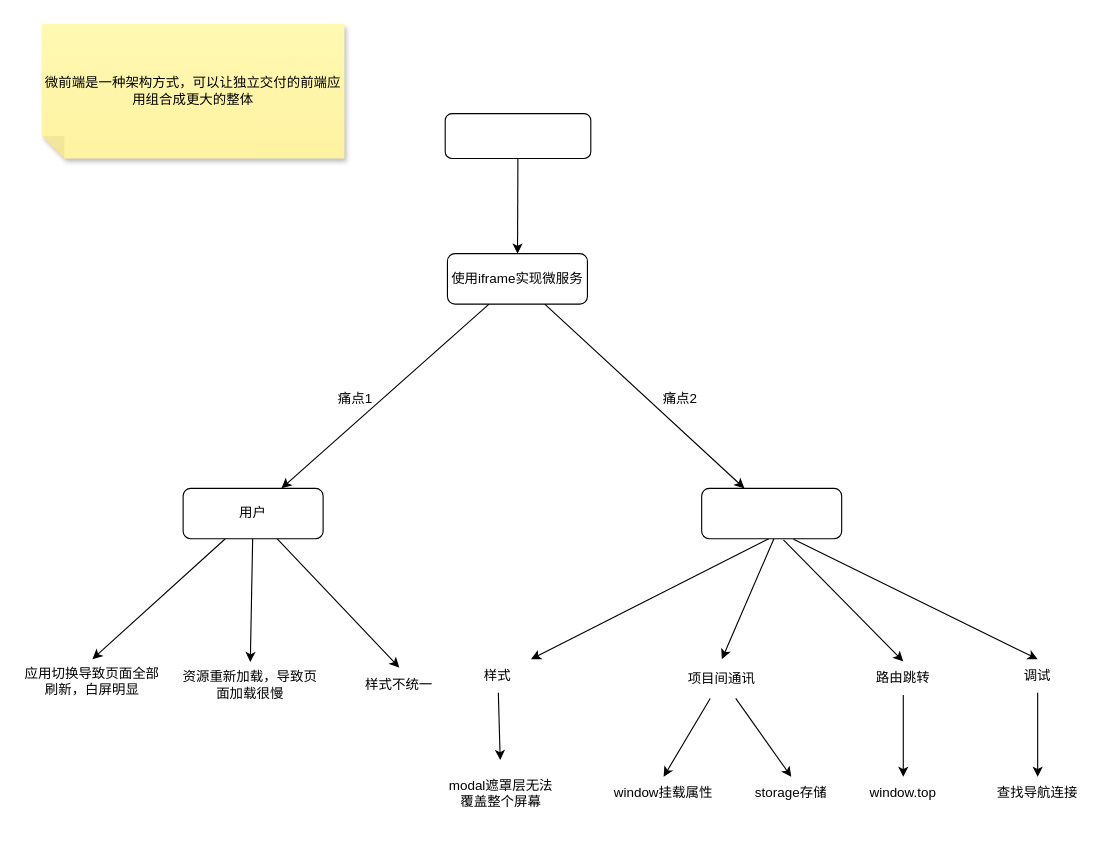
Image size: 1101x847. Some labels were removed from this diagram. Here are the shapes that lost their labels. From the top down, the centre of each, then its label:
At point 517,135: "现状".
At point 771,513: "开发者".
